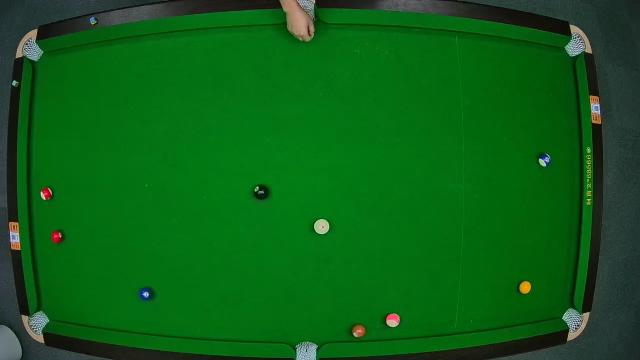bag1: (20, 40, 42, 62)
bag2: (292, 2, 316, 26)
bag4: (29, 311, 49, 333)
bag5: (294, 340, 318, 360)
bag6: (562, 308, 582, 330)
ball0: (314, 219, 331, 235)
ball1: (518, 280, 534, 296)
ball10: (536, 153, 552, 169)
ball11: (40, 187, 52, 201)
ball12: (386, 312, 400, 330)
ball2: (140, 283, 156, 299)
ball3: (50, 228, 64, 244)
ball7: (351, 324, 365, 338)
ball8: (253, 184, 269, 200)
